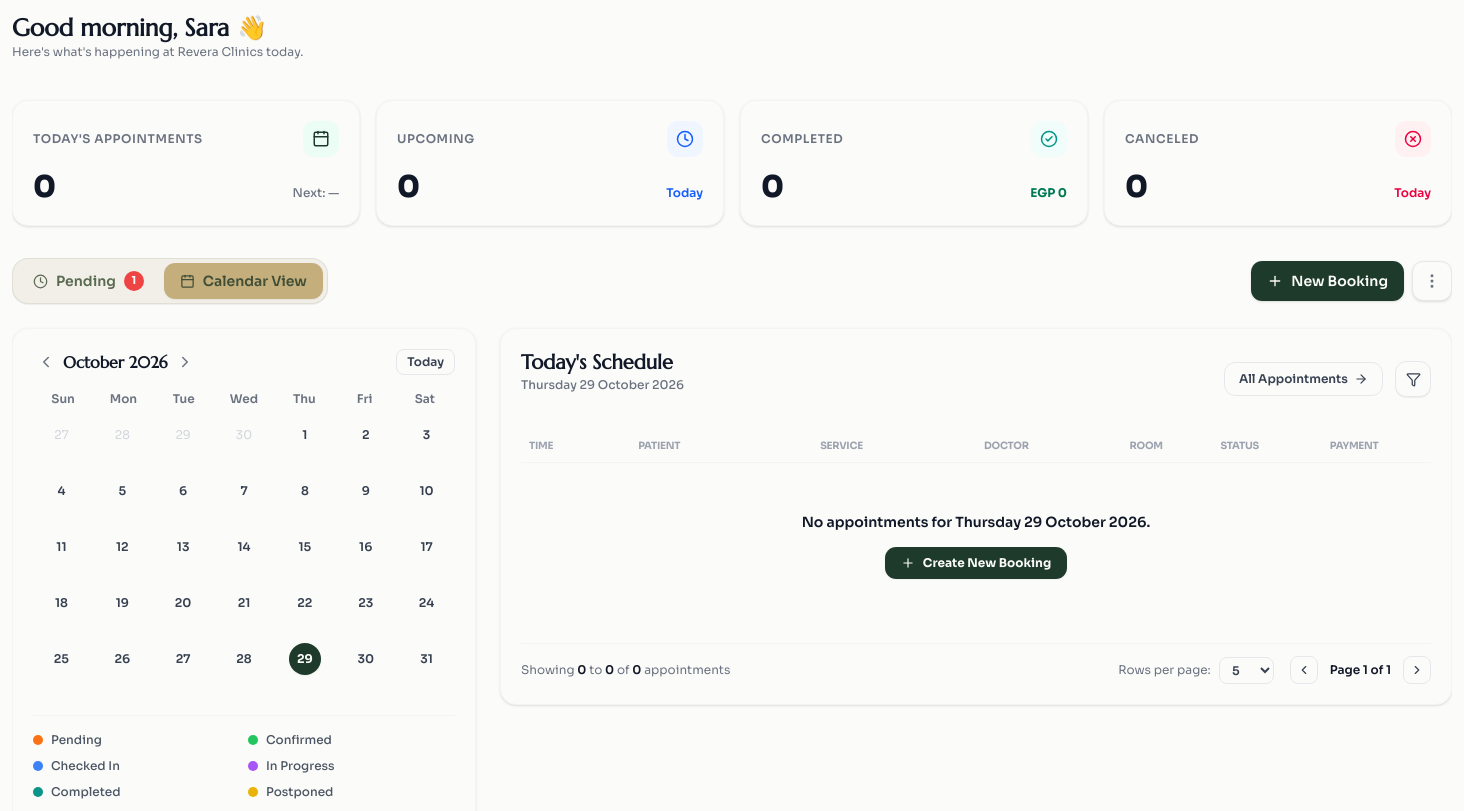
Test: pending approvals — approve/reject › reject removes the row from the pending list once the parent confirms it was saved
Click the button "Pending 1".
click(88, 281)  # box [17,263,160,299]
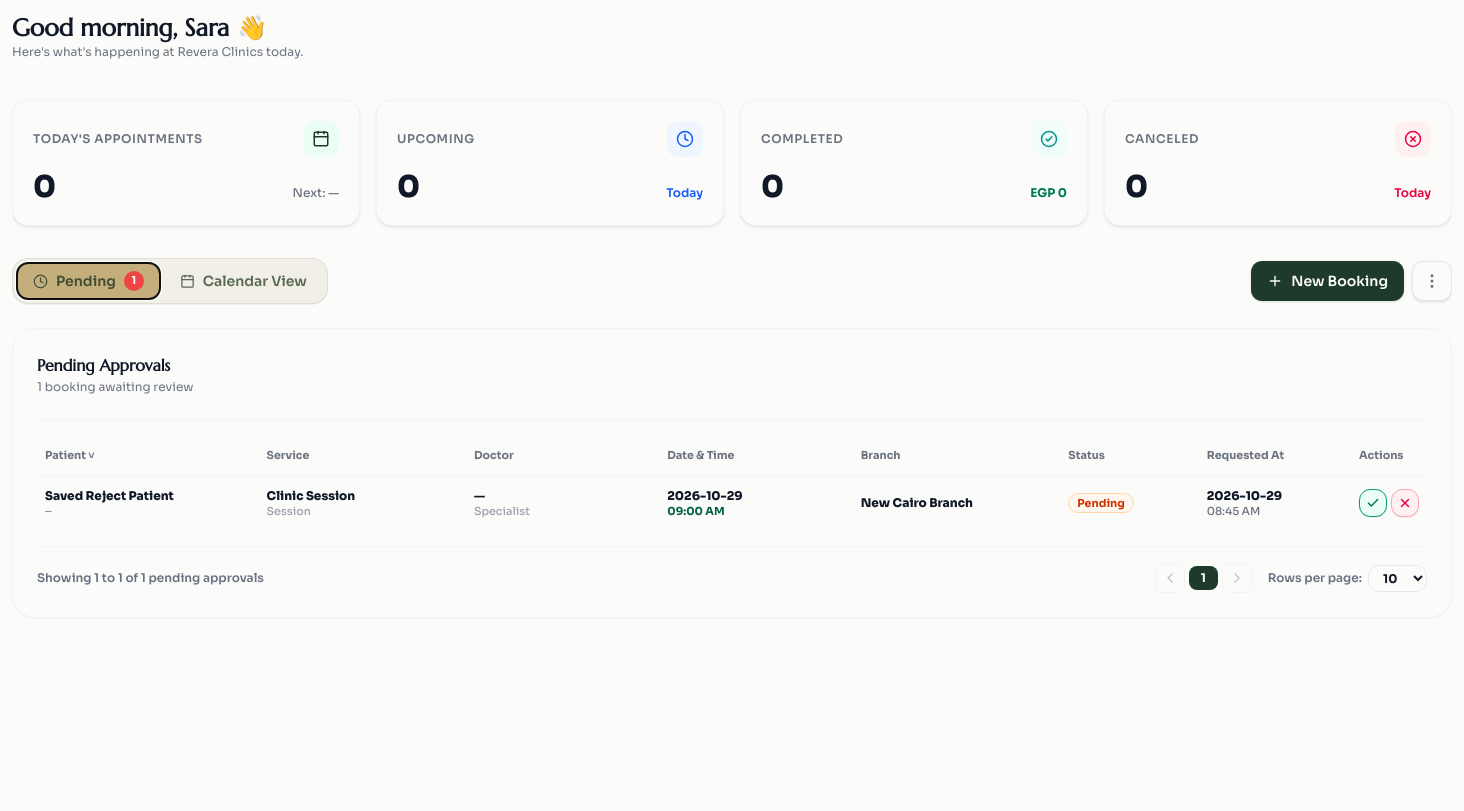
expect the text "Saved Reject Patient" is shown: met, box [45,488,174,503]
Click the button titled "Reject".
click(1405, 503)  # box [1391,489,1419,517]
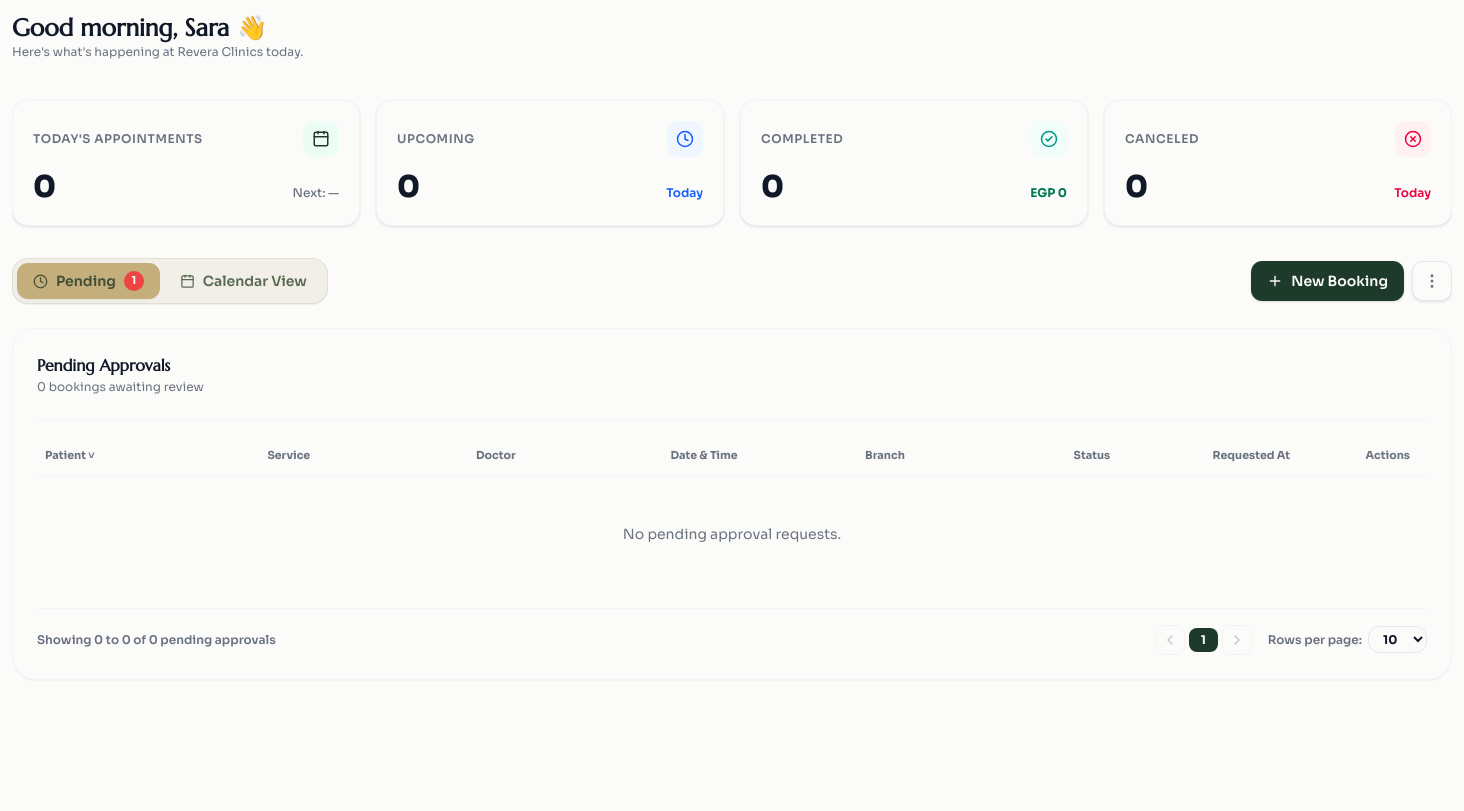
expect the text "Saved Reject Patient" is gone: met
